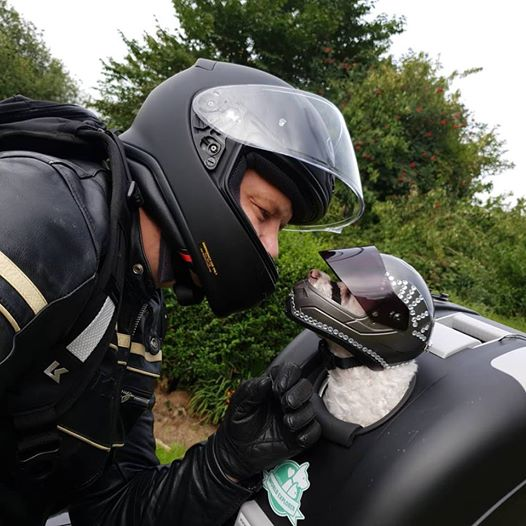helmet: (107, 43, 370, 325), (280, 244, 447, 382)
